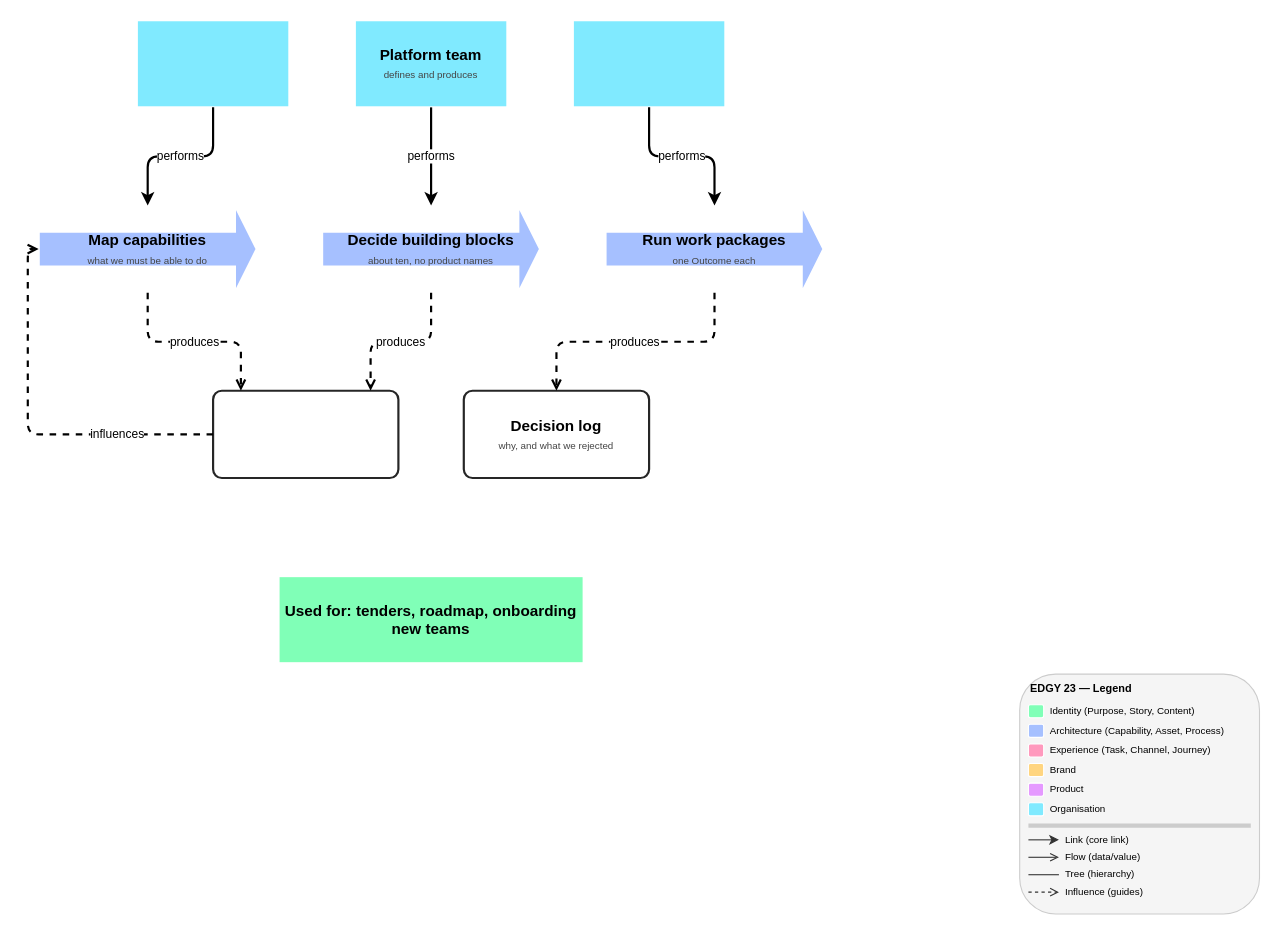
Image size: 1279x933. Some labels were removed from this diagram. The shapes that lost their labels are listed below. From the top down, each one's centre as x and y in pixels, then its label:
(212,63): Transit authority steers and funds
(648,63): Suppliers build and operate
(305,434): Target architecture H1 tested against the capability map
